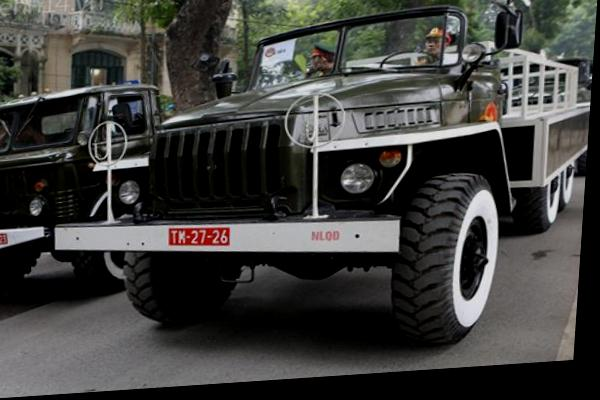License_Plate: (167, 222, 237, 253), (0, 232, 10, 248)
